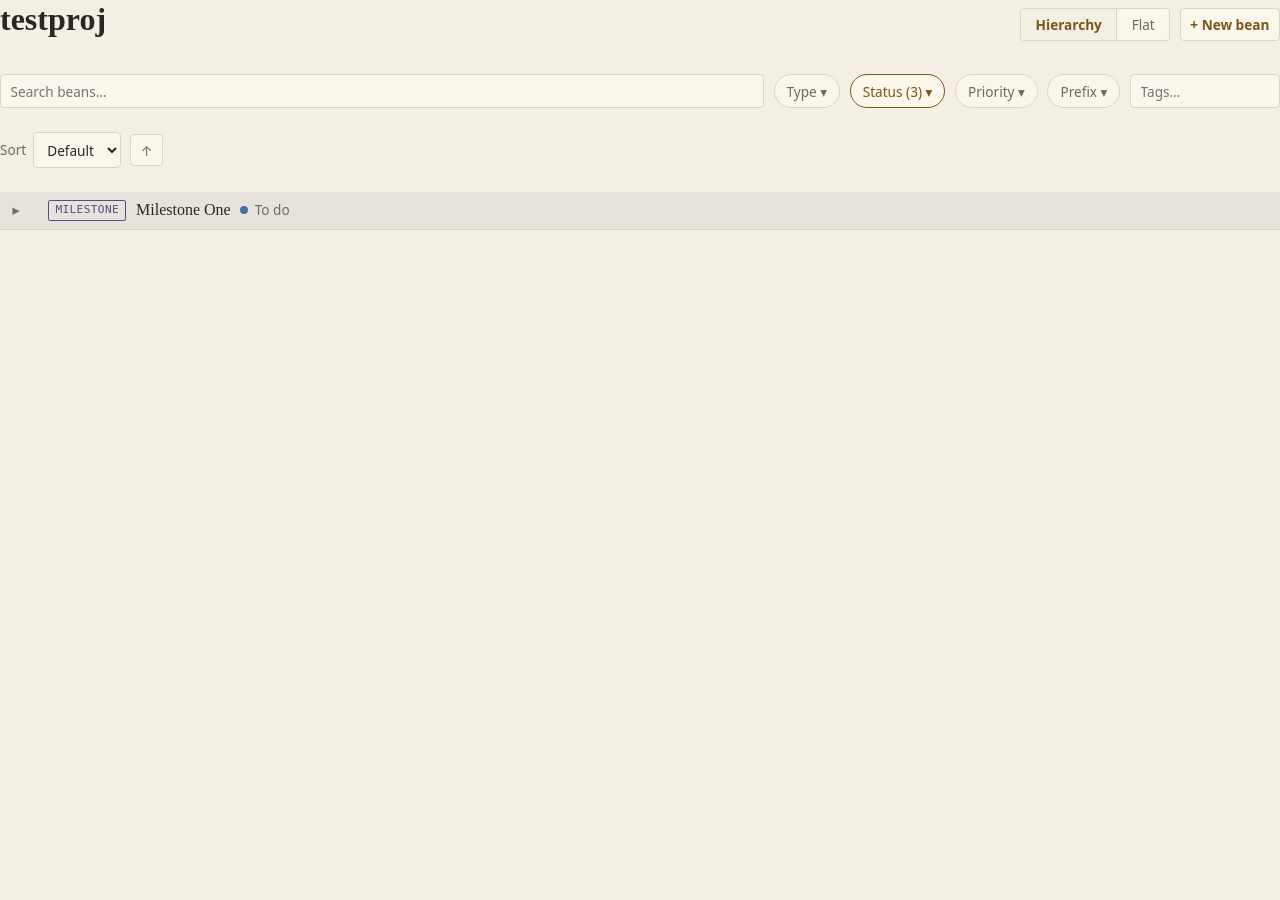
ProjectList › reports a failed create inside the dialog, where the dialog has not closed
Click the button "+ New bean" at [1230, 24], box x1=1180 y1=8 x2=1279 y2=41
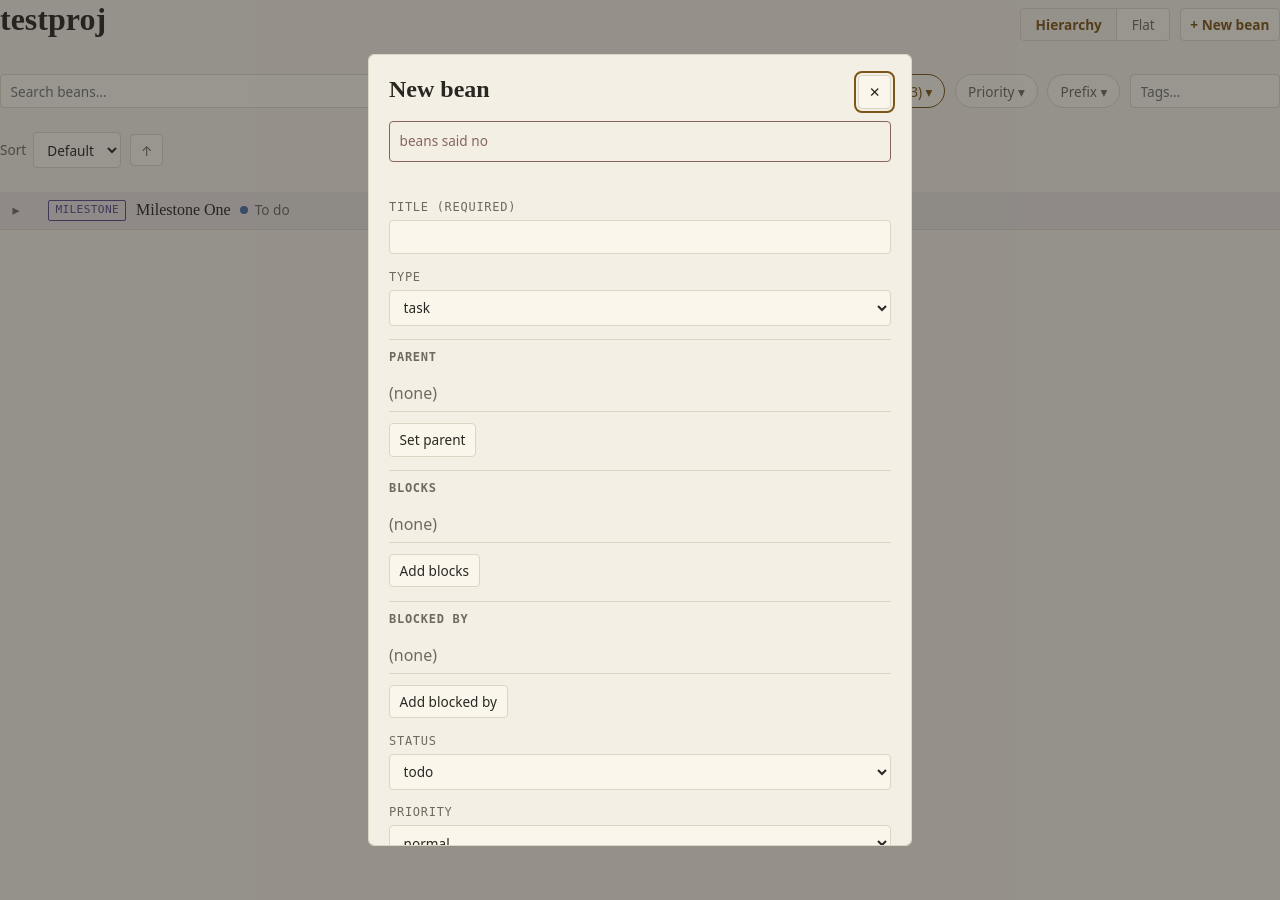
Now the message reads "beans said no", box x1=400 y1=131 x2=488 y2=150
